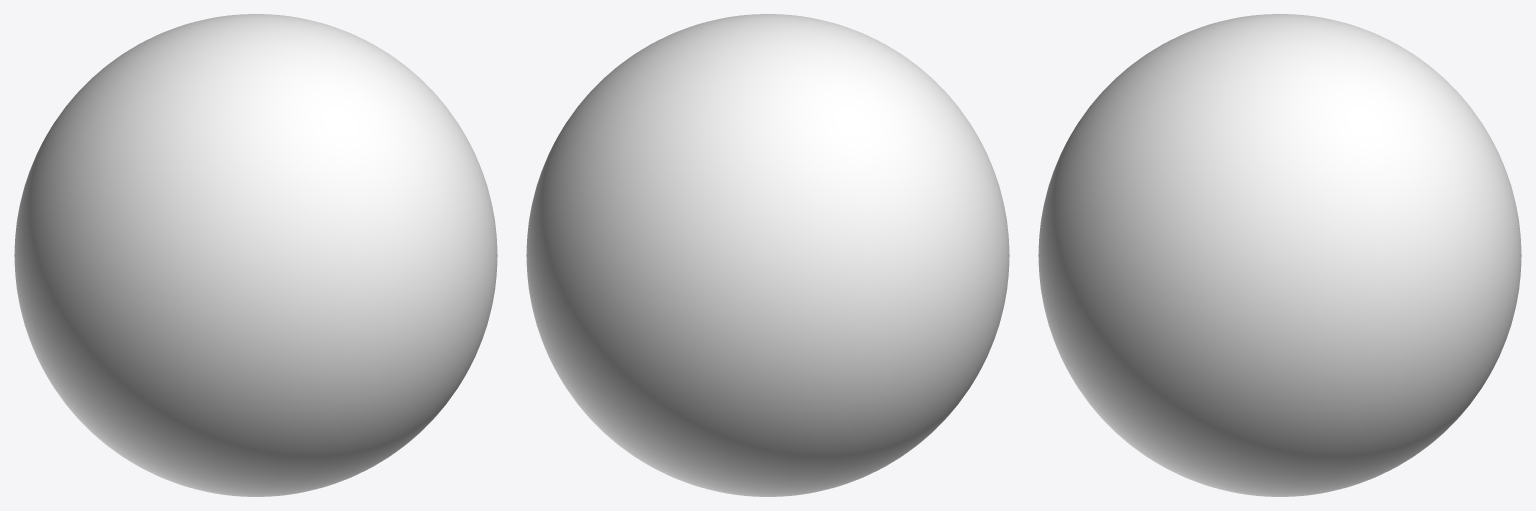
Rendered from planet-terra.glb.
3 renders of one model, left to right at view 1: azimuth 30°, elevation 25°; view 2: azimuth 150°, elevation 25°; view 3: azimuth 270°, elevation 25°, orthographic.
Visible parts, largest first — view 1: Clouds; view 2: Clouds; view 3: Clouds.
Part boxes in pixels (<box>): Clouds: <box>14,14,497,496</box>; Clouds: <box>526,14,1009,496</box>; Clouds: <box>1038,14,1521,496</box>.
Bounding box in the file's own units: 6.07 × 6.07 × 6.07.
2 materials, 2 textured.
